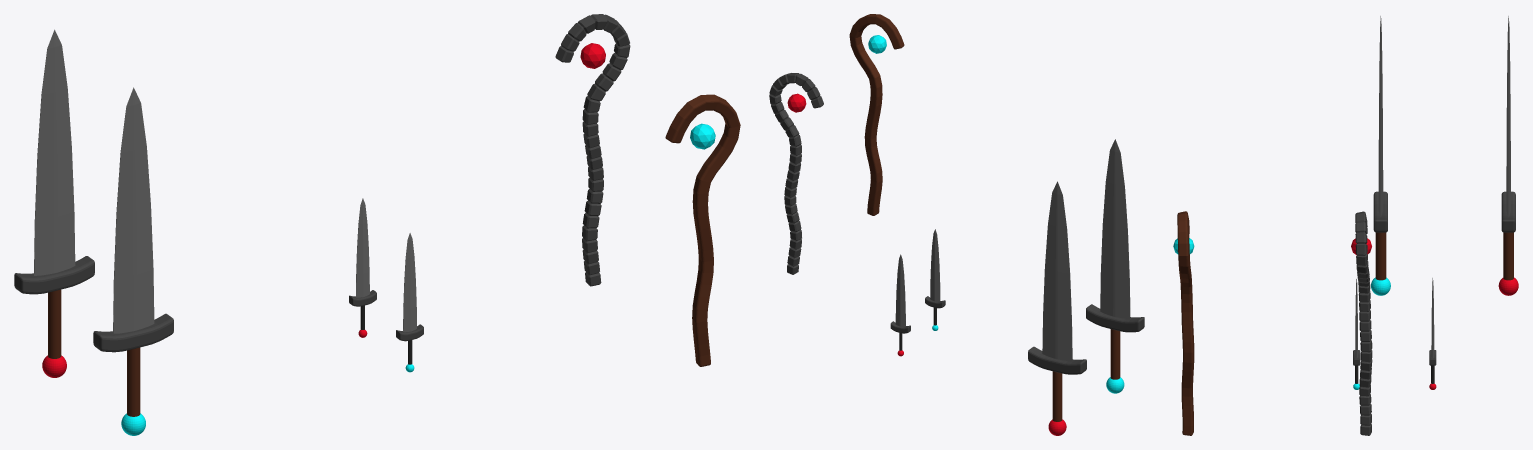
Rendered from SwordsAndStaffs.fbx.
3 views of the same model, side by side, from view 1: azimuth 30°, elevation 25°; view 2: azimuth 150°, elevation 25°; view 3: azimuth 270°, elevation 25° (orthographic). The views are drawn at different scales.
Visible parts, largest first — view 1: Cube.012, Cube.015, Cube.011, Cube.016, Cube.014, Cube.013; view 2: Cube.015, Cube.012, Cube.011, Cube.016, Cube.014, Cube.013; view 3: Cube.016, Cube.011, Cube.012, Cube.015, Cube.013, Cube.014.
Boxes of the visible parts, left/top/right/bottom form: Cube.012: left=93, top=87, right=173, bottom=435; Cube.015: left=14, top=29, right=94, bottom=377; Cube.011: left=665, top=94, right=740, bottom=366; Cube.016: left=555, top=14, right=630, bottom=286; Cube.014: left=396, top=233, right=423, bottom=372; Cube.013: left=349, top=198, right=376, bottom=337; Cube.015: left=1028, top=181, right=1086, bottom=435; Cube.012: left=1086, top=139, right=1144, bottom=393; Cube.011: left=849, top=14, right=904, bottom=215; Cube.016: left=769, top=73, right=823, bottom=274; Cube.014: left=925, top=229, right=945, bottom=330; Cube.013: left=890, top=254, right=910, bottom=356; Cube.016: left=1351, top=211, right=1372, bottom=435; Cube.011: left=1173, top=211, right=1194, bottom=435; Cube.012: left=1371, top=16, right=1390, bottom=295; Cube.015: left=1498, top=16, right=1518, bottom=295; Cube.013: left=1429, top=278, right=1436, bottom=389; Cube.014: left=1353, top=279, right=1360, bottom=389.
Bounding box in the file's own units: 1713 × 1093 × 1218.
